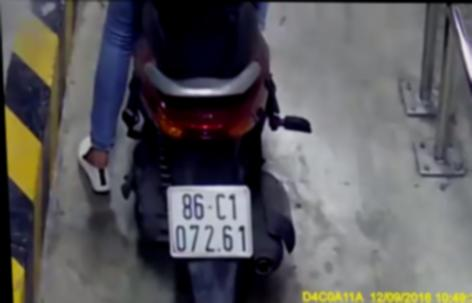License_Plate: (160, 179, 263, 267)
